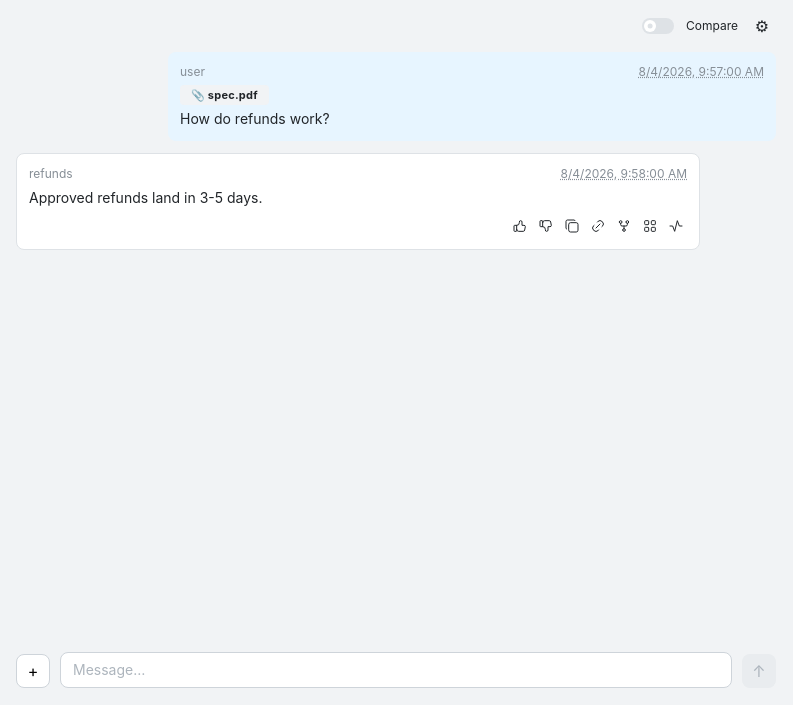
Test: ChatPage streaming › renders an inline error state on an SSE error event
Expected: the text "How do refunds work?" is shown, [180, 110, 330, 127]
Type "will fail" into the text box with placeholder "Message…" at (396, 670), box [60, 652, 732, 688]
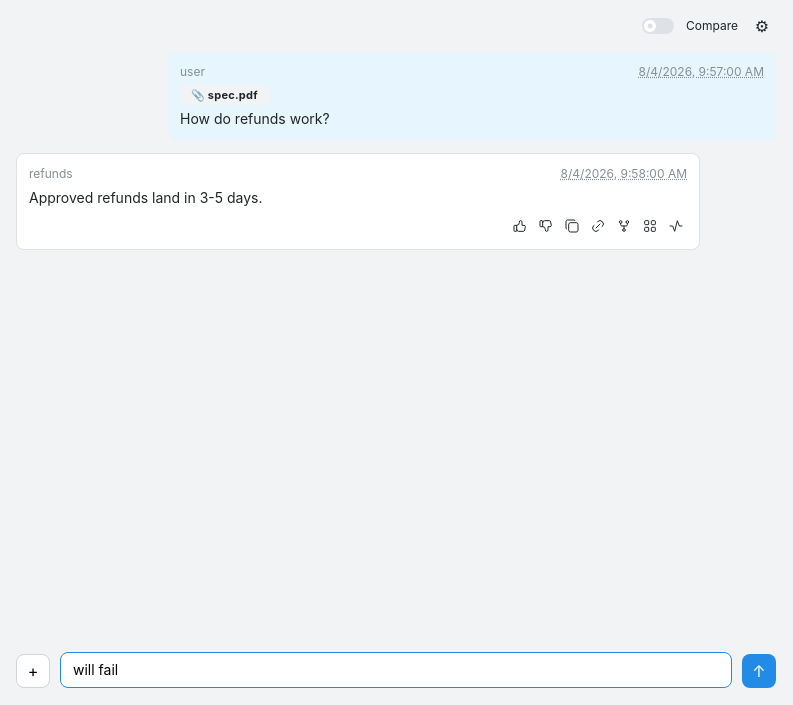
Click the button named "Send" at (759, 671), box [742, 654, 776, 688]
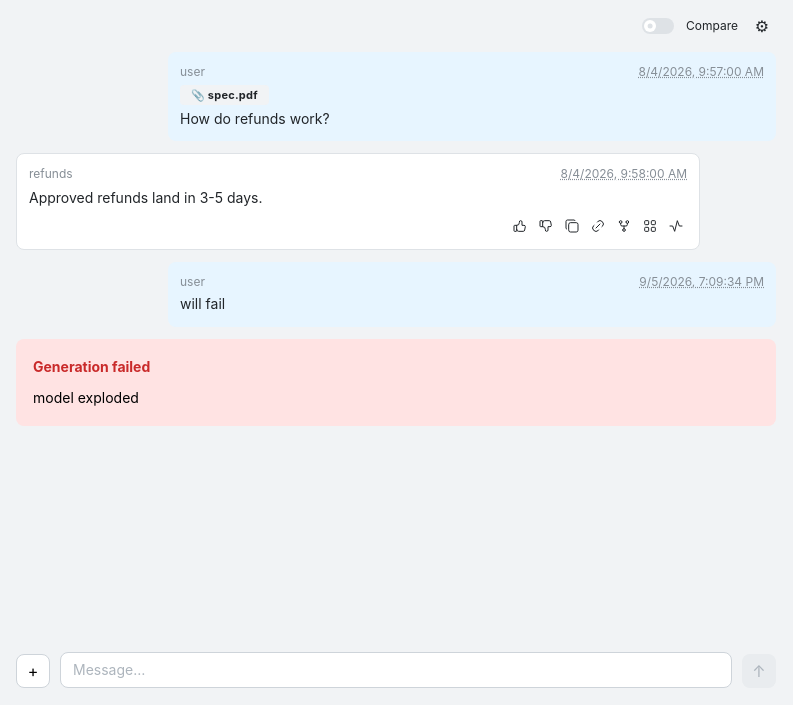
Expected: the text "model exploded" is shown, [33, 389, 139, 406]
Expected: the text "Generation failed" is shown, [33, 356, 150, 377]
